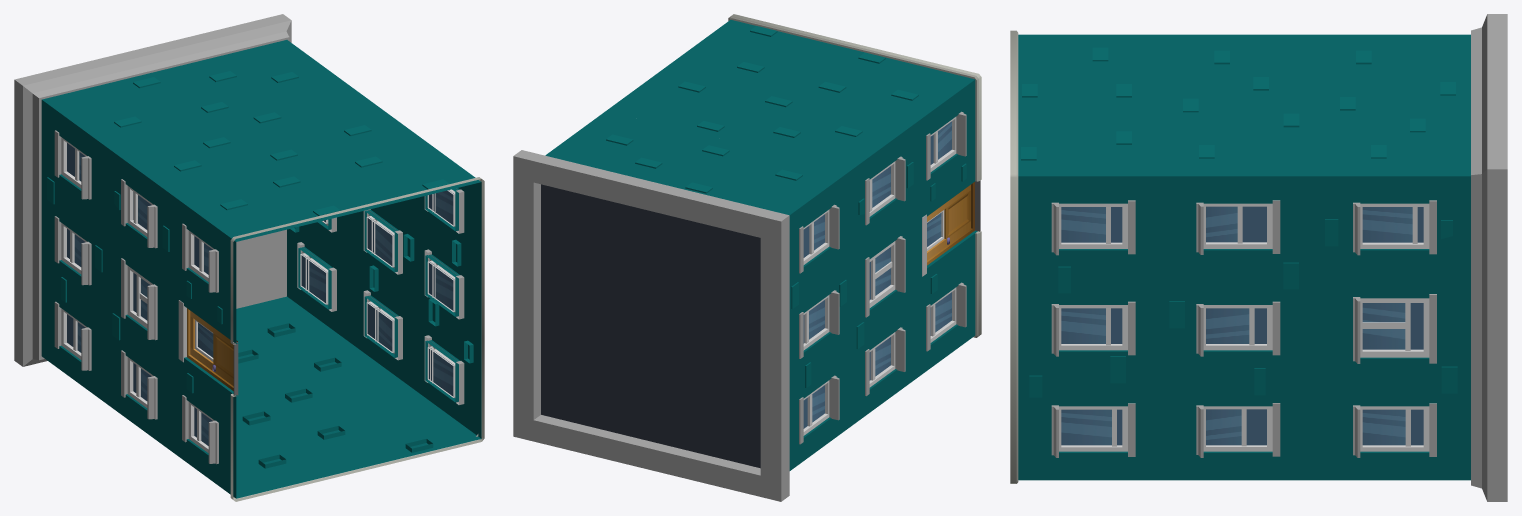
Rendered from Building_2_6_H.fbx.
The picture shows the model from 3 angles, left to right: view 1: azimuth 30°, elevation 25°; view 2: azimuth 150°, elevation 25°; view 3: azimuth 270°, elevation 25°; orthographic projection. The views are drawn at different scales.
Visible parts, largest first — view 1: Building_2_6_H; view 2: Building_2_6_H; view 3: Building_2_6_H.
Part boxes in pixels (box(x1,y1,x2,y2)): Building_2_6_H: box(14, 14, 484, 501); Building_2_6_H: box(513, 14, 981, 501); Building_2_6_H: box(1010, 14, 1507, 501).
Bounding box in the file's own units: 620 × 620 × 840.
